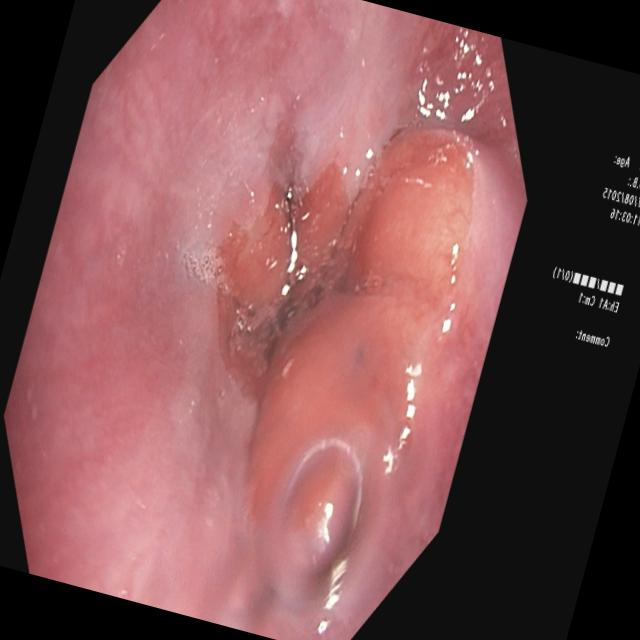Normal-Z-Line: (206, 113, 486, 640)
